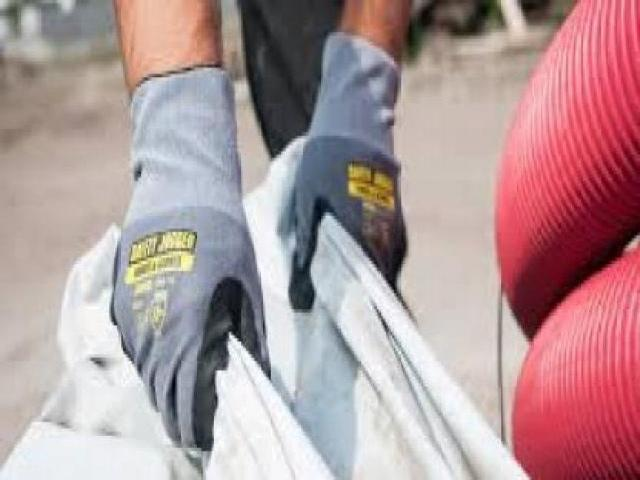Hand-in-Glove: (99, 70, 279, 468), (288, 30, 419, 313)
